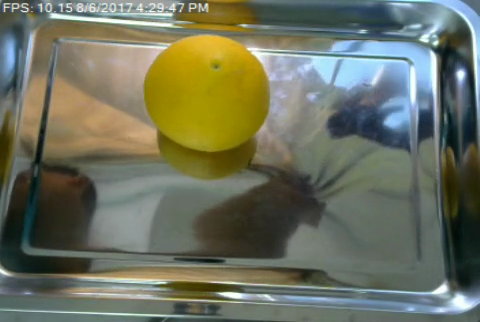Orange: (145, 33, 271, 152)
